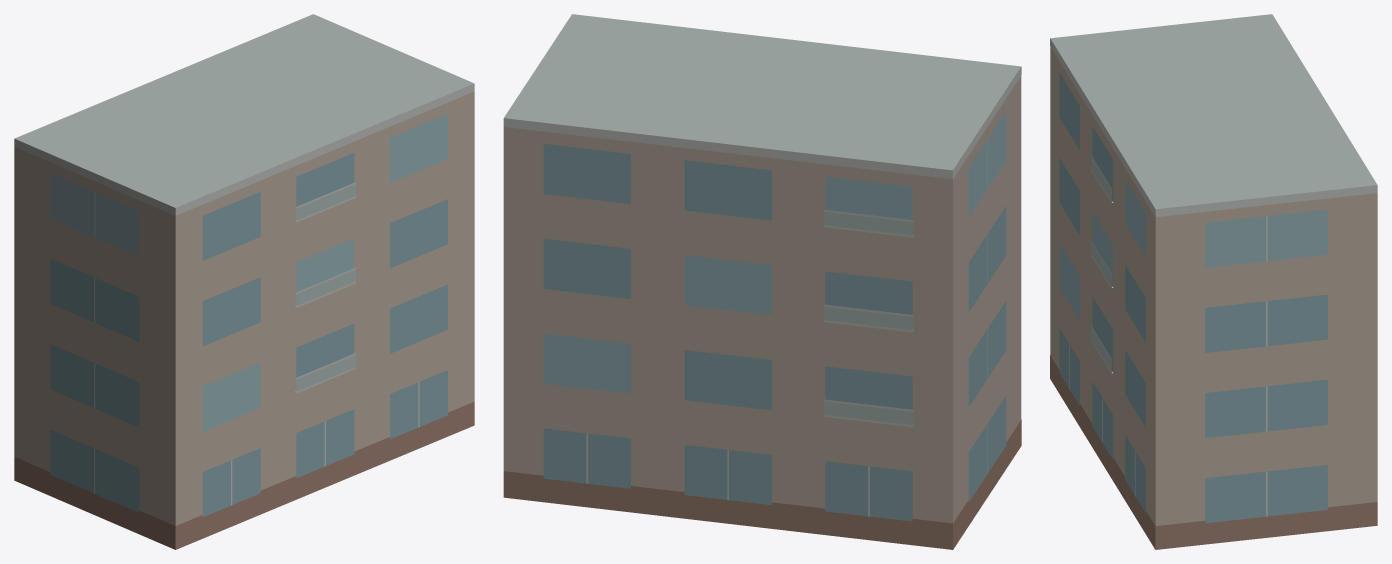
Rendered from survey-upis-32676394.glb.
3 renders of one model, left to right at view 1: azimuth 30°, elevation 25°; view 2: azimuth 150°, elevation 25°; view 3: azimuth 270°, elevation 25°, orthographic. The views are drawn at different scales.
Parts seen in each view (by area): view 1: survey-upis-32676394.tmp; view 2: survey-upis-32676394.tmp; view 3: survey-upis-32676394.tmp.
Boxes of the visible parts, x1,y1,x2,y2 form: survey-upis-32676394.tmp: [14, 14, 474, 549]; survey-upis-32676394.tmp: [503, 14, 1021, 549]; survey-upis-32676394.tmp: [1050, 14, 1377, 549].
Bounding box in the file's own units: 12.92 × 10.5 × 9.16.
